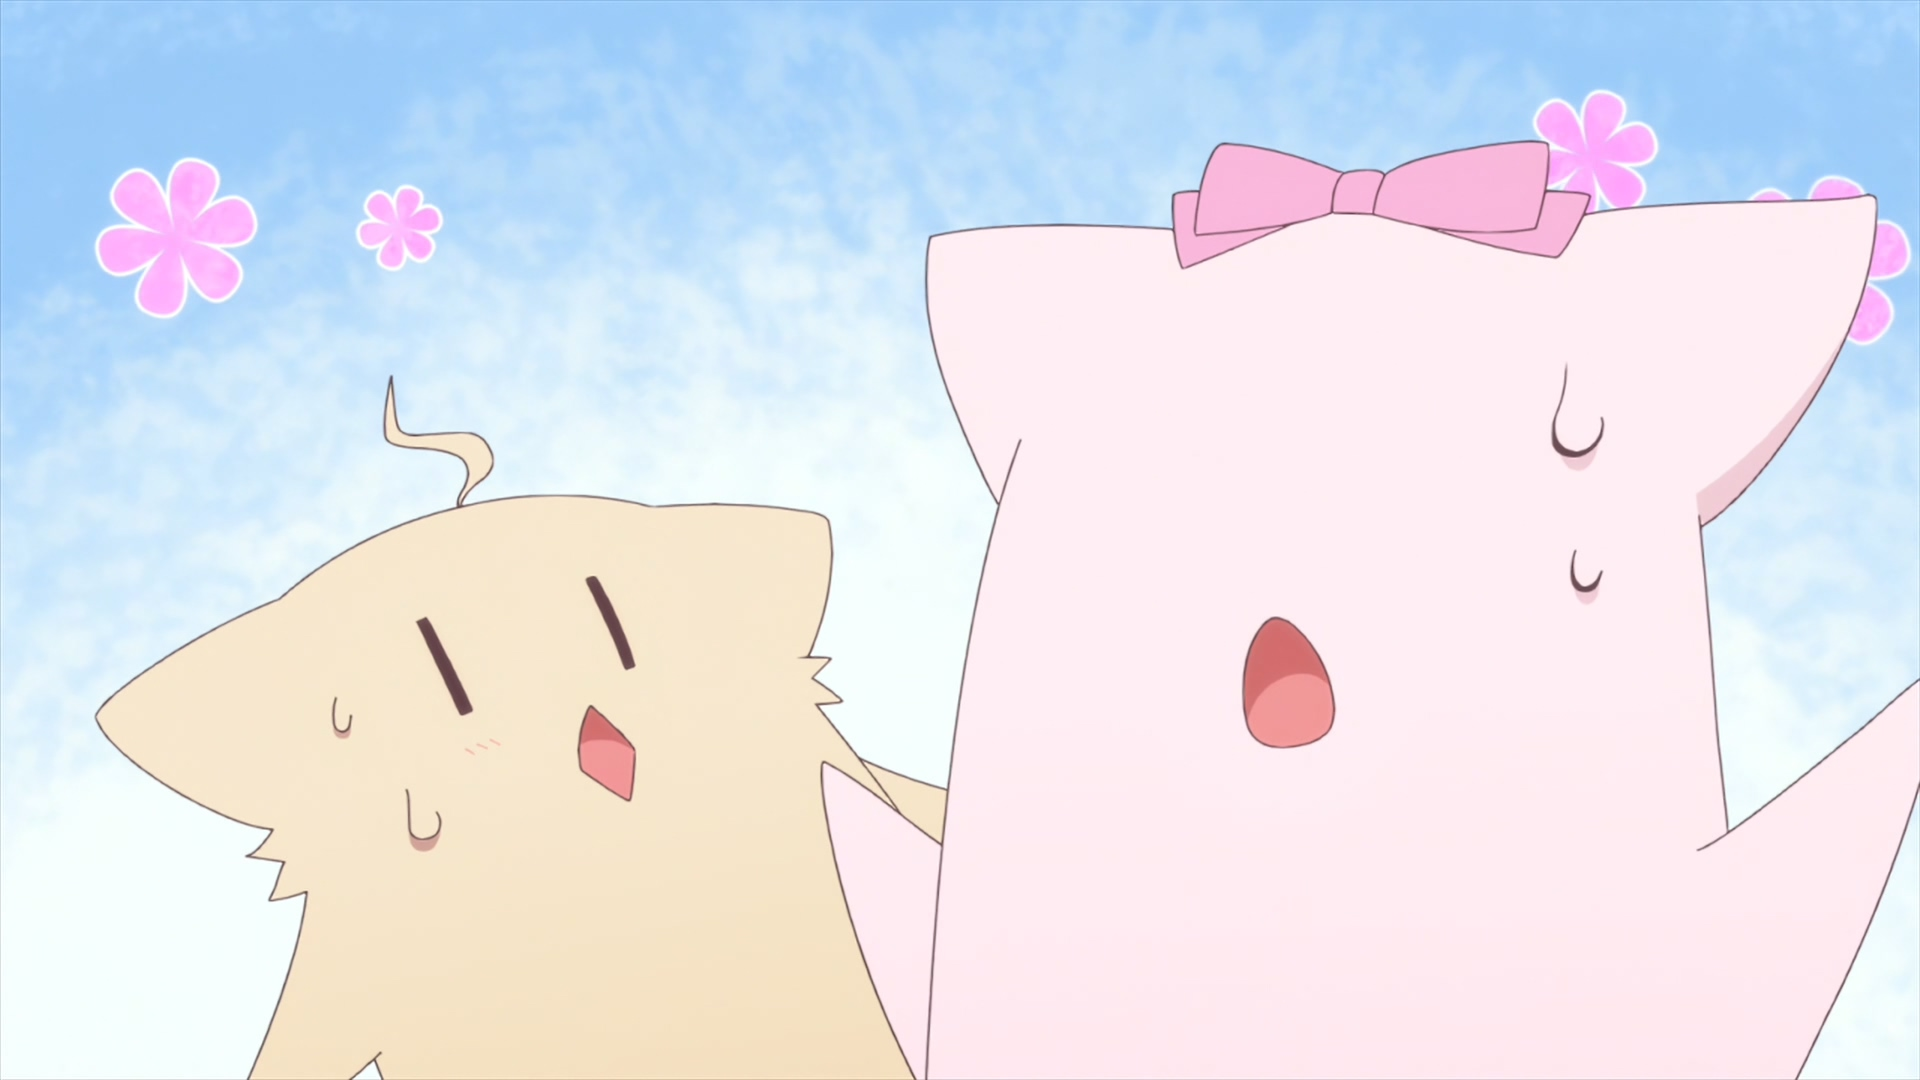柚: (94, 376, 949, 1080)
莲: (820, 142, 1920, 1080)
